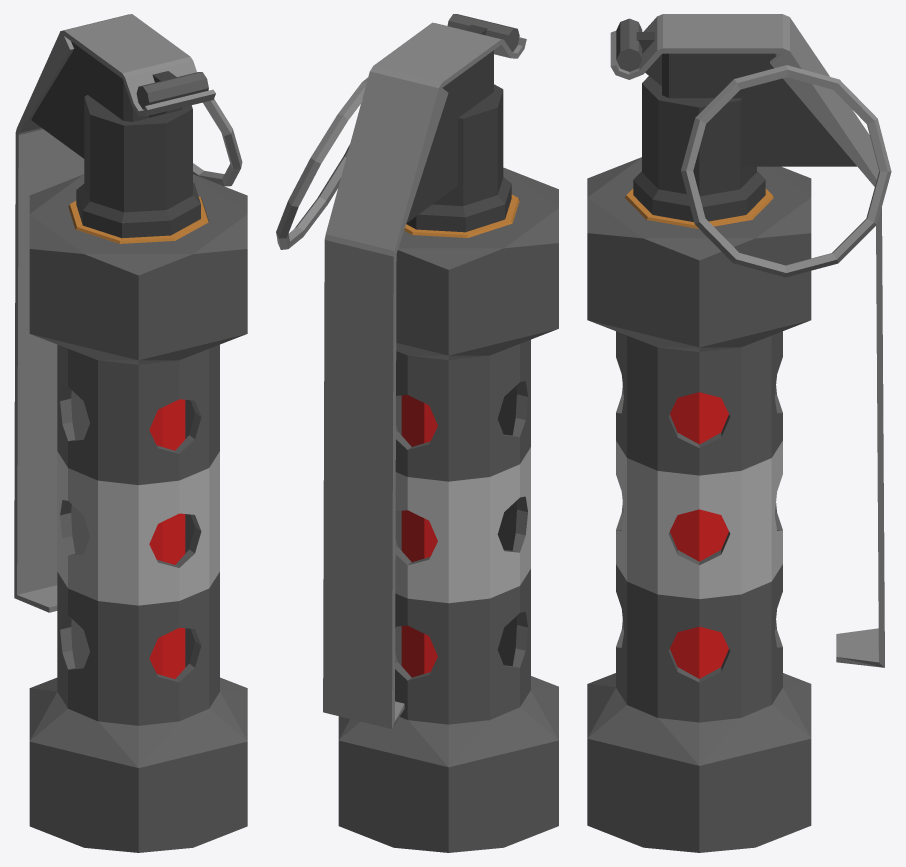
Rendered from gren_flash.glb.
The picture shows the model from 3 angles, left to right: view 1: azimuth 30°, elevation 25°; view 2: azimuth 150°, elevation 25°; view 3: azimuth 270°, elevation 25°; orthographic projection. The views are drawn at different scales.
Visible parts, largest first — view 1: FlashGrenade_0, Pin_0; view 2: FlashGrenade_0, Pin_0; view 3: FlashGrenade_0, Pin_0.
Part boxes in pixels (left/top/right/bottom): FlashGrenade_0: left=14, top=14, right=247, bottom=852; Pin_0: left=193, top=90, right=242, bottom=186; FlashGrenade_0: left=323, top=14, right=558, bottom=852; Pin_0: left=276, top=77, right=367, bottom=249; FlashGrenade_0: left=587, top=14, right=884, bottom=852; Pin_0: left=681, top=65, right=891, bottom=277.
Bounding box in the file's own units: 0.0388 × 0.1264 × 0.0449.
1 material, 1 textured.
